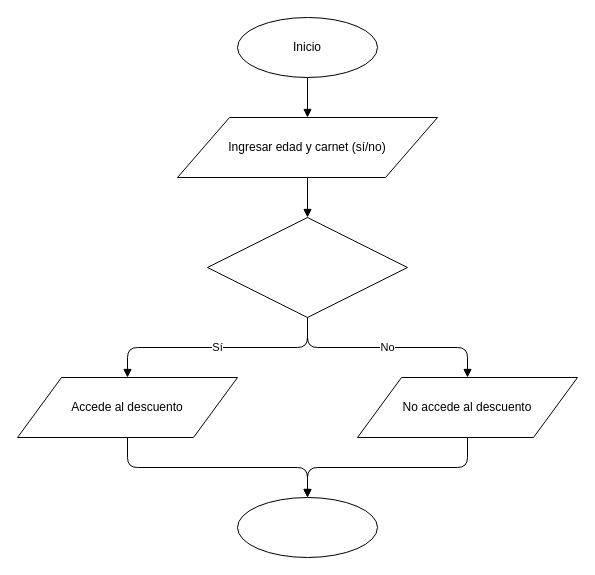
Some shapes in this 595 by 575 pixel diagram are drawn without their labels. The shapes that lost their labels are listed below. From the top down, each one's centre as x and y in pixels, then its label:
At (x=307, y=267): "¿Edad < 18 y carnet = sí?".
At (x=307, y=527): "Fin".
